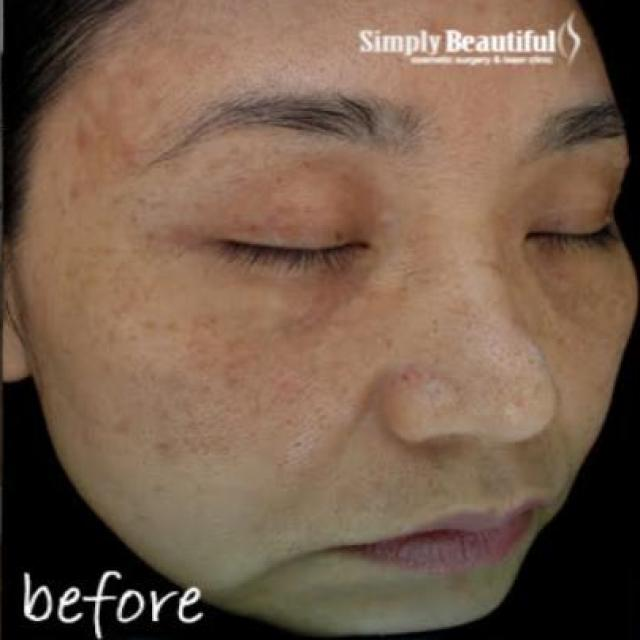melasma: (72, 244, 367, 500), (37, 24, 182, 209), (525, 272, 630, 370)
